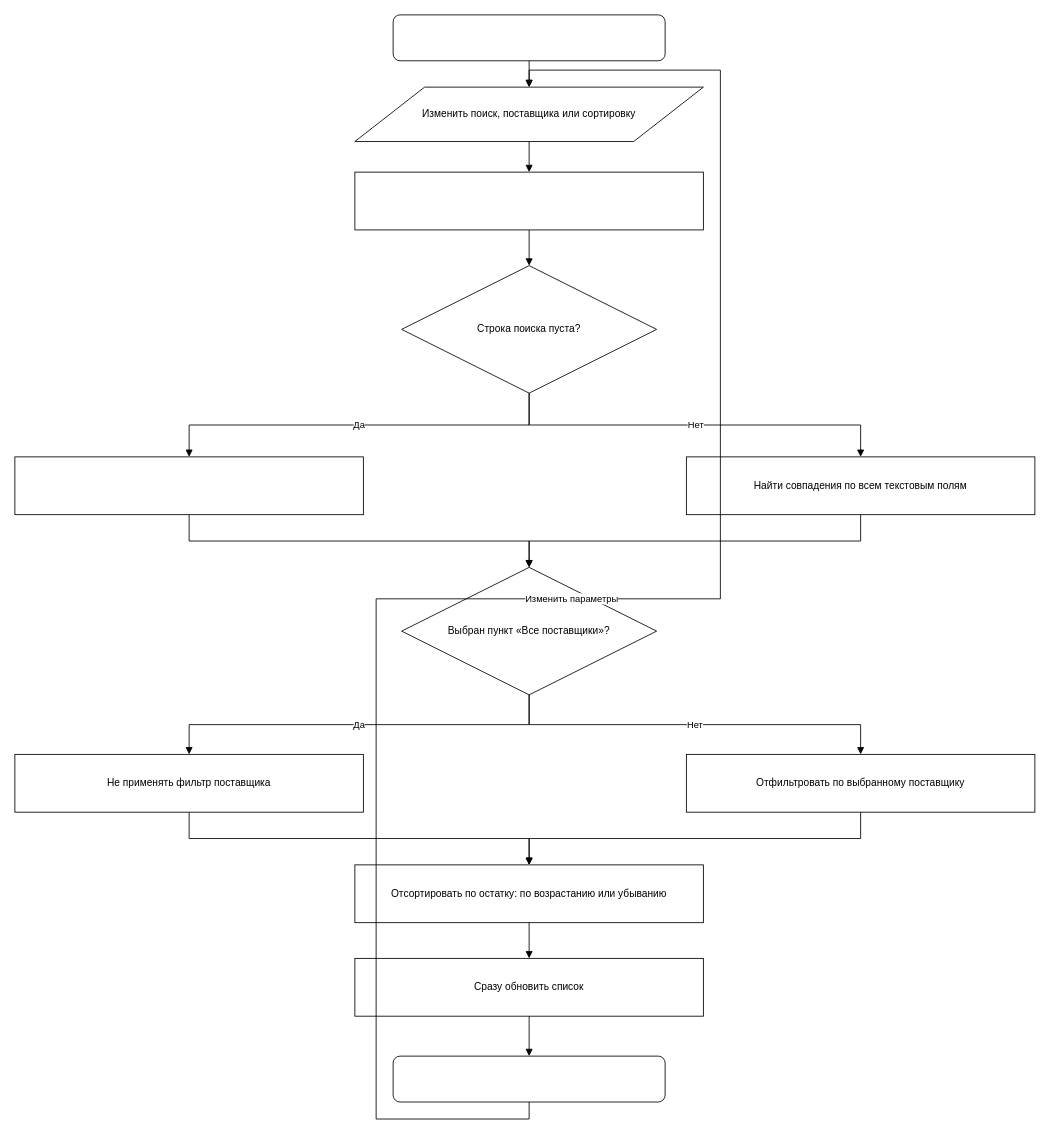
Image size: 1050x1141. Some labels were removed from this diagram. The box of each missing label's shape, as (x1, y1, x2, y2) in pixels:
Каталог открыт: (392, 14, 665, 61)
Ожидать изменения параметров: (392, 1055, 665, 1102)
Оставить все товары: (14, 456, 363, 515)
Получить полный список товаров: (354, 171, 703, 230)
